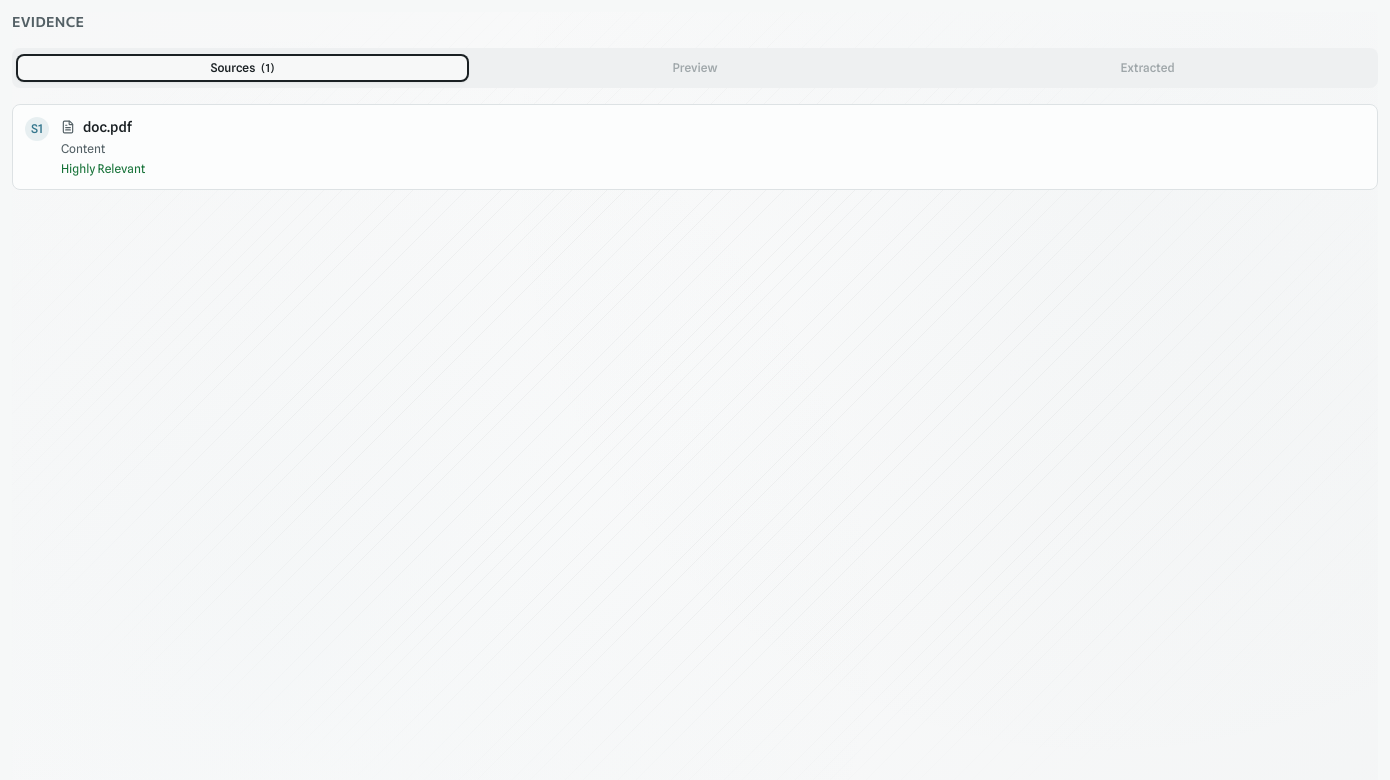
Test case: RightPane › PreviewTab source content › should show Jump to answer button
Click the button. click: (108, 127)
box: [12,104,1378,190]
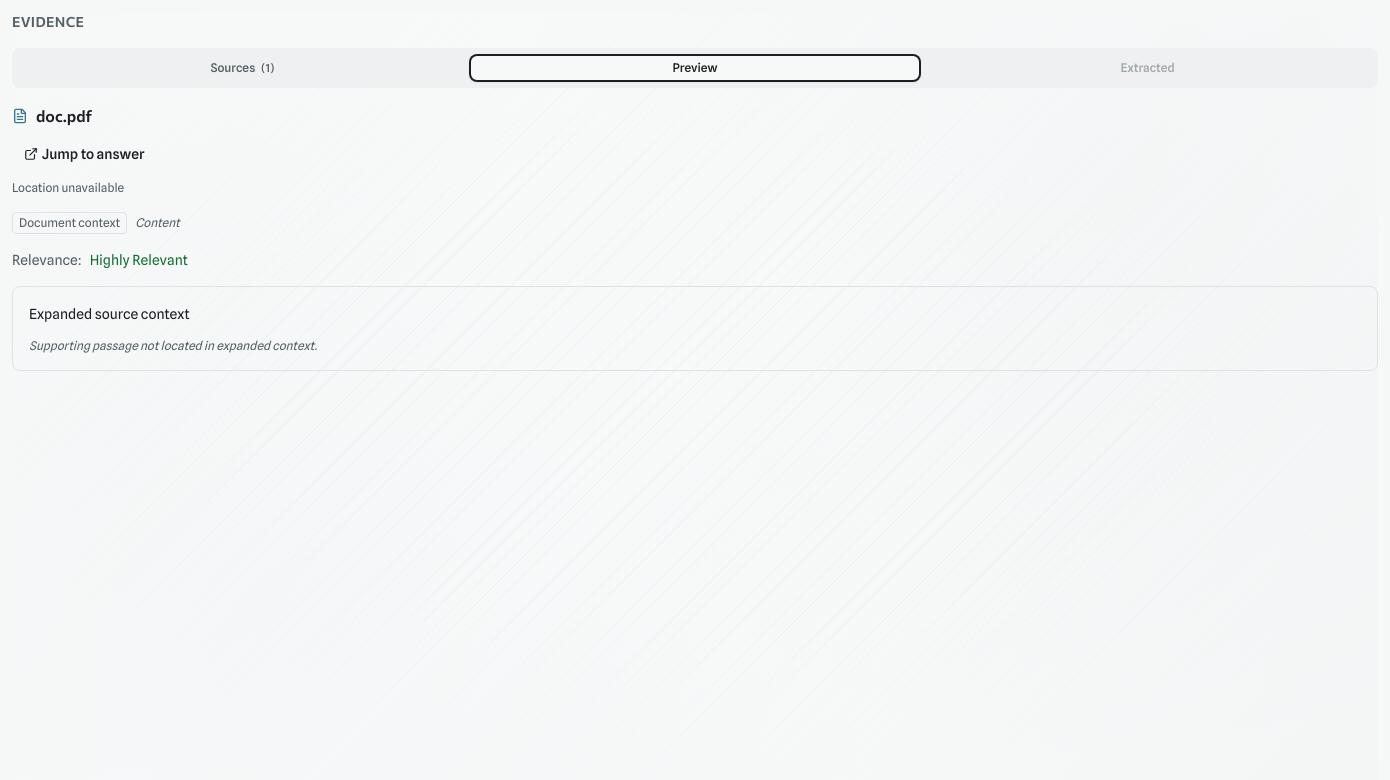
Expected: the button "Jump to answer" is shown, [12,136,156,172]
